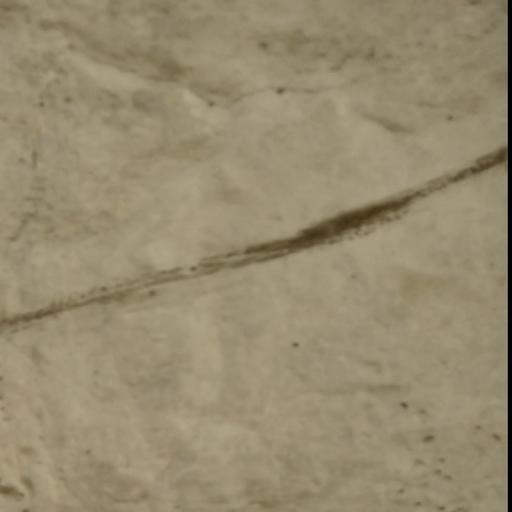stain: (6, 100, 512, 324)
